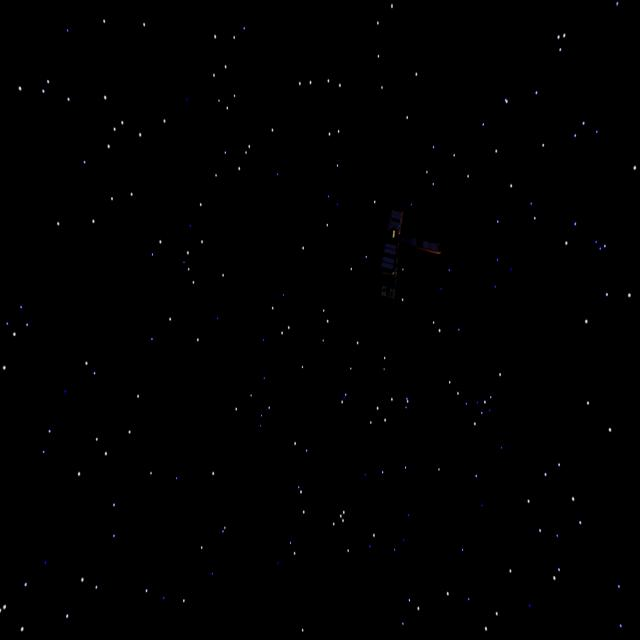medium_debris: (361, 194, 445, 296)
